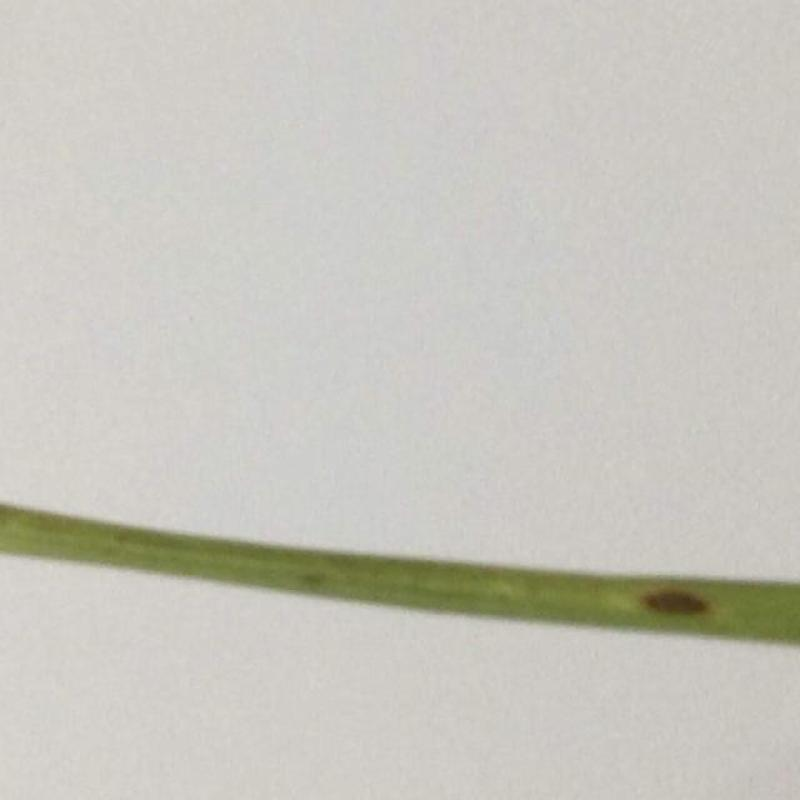Leaf_Blast: (618, 561, 742, 651)
